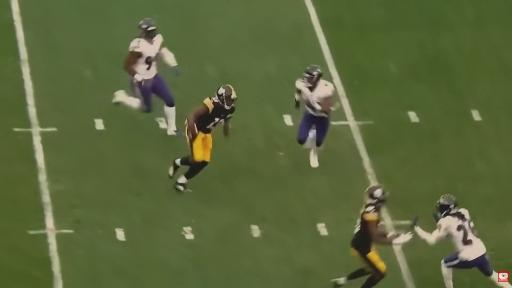Helmet: (215, 85, 236, 109), (366, 185, 387, 206), (437, 195, 457, 217), (303, 65, 322, 86), (139, 18, 157, 39)
Jersey: (438, 209, 486, 260), (129, 34, 163, 79), (296, 79, 334, 117), (195, 98, 234, 133), (351, 205, 379, 253)
Player: (413, 195, 511, 287), (332, 186, 412, 287), (113, 18, 178, 135), (169, 85, 236, 191), (295, 65, 334, 167)
